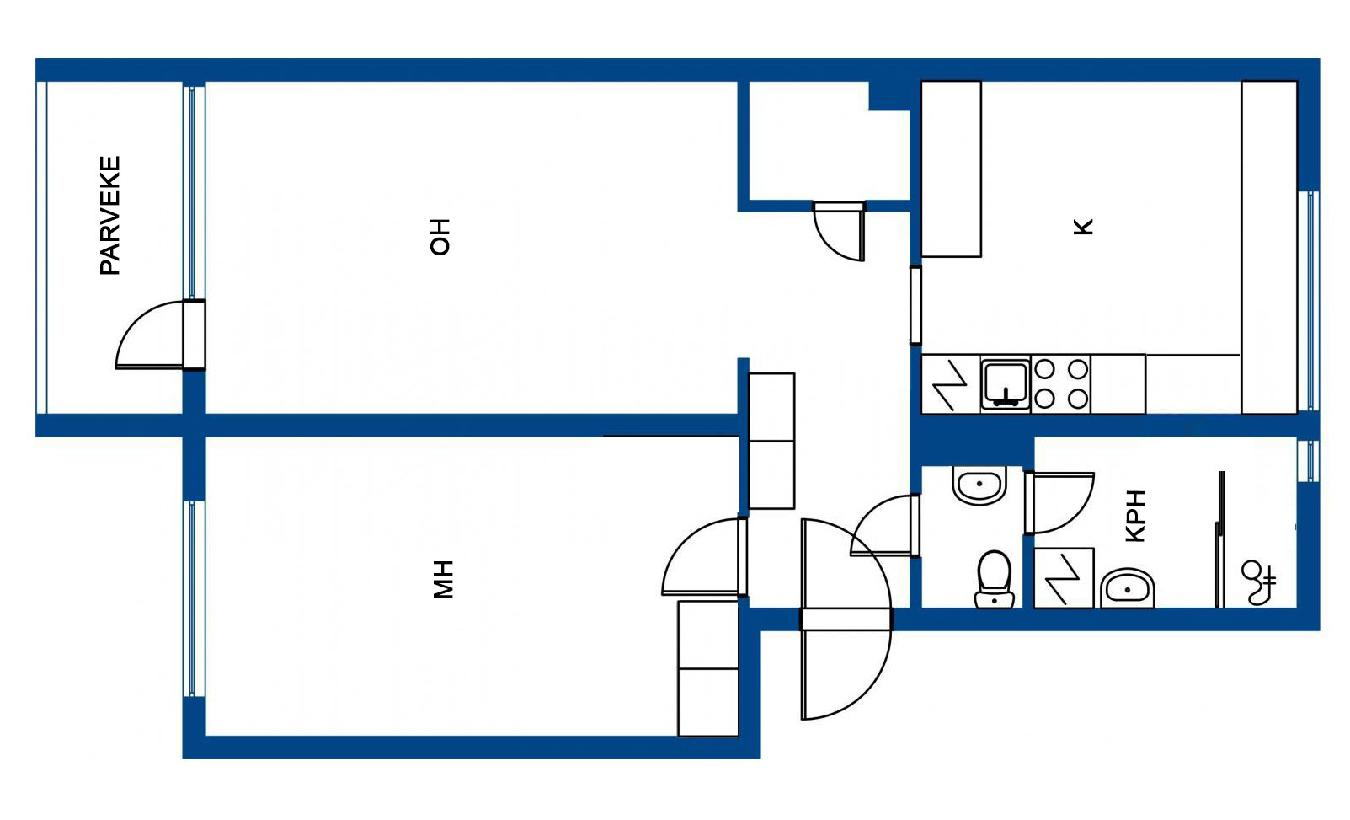door: (797, 510, 898, 728), (636, 510, 746, 605), (104, 304, 206, 372), (846, 486, 921, 567), (807, 199, 880, 270)
window: (1292, 182, 1320, 415), (183, 83, 209, 304), (180, 504, 204, 699), (1294, 441, 1316, 484)
zone: (208, 80, 915, 608), (206, 431, 742, 733), (923, 81, 1296, 414), (43, 82, 183, 414), (1033, 436, 1303, 607), (749, 82, 911, 203), (916, 463, 1022, 610)
